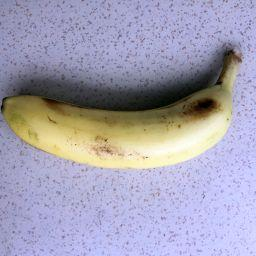Banana Ripe: (0, 40, 254, 188)
